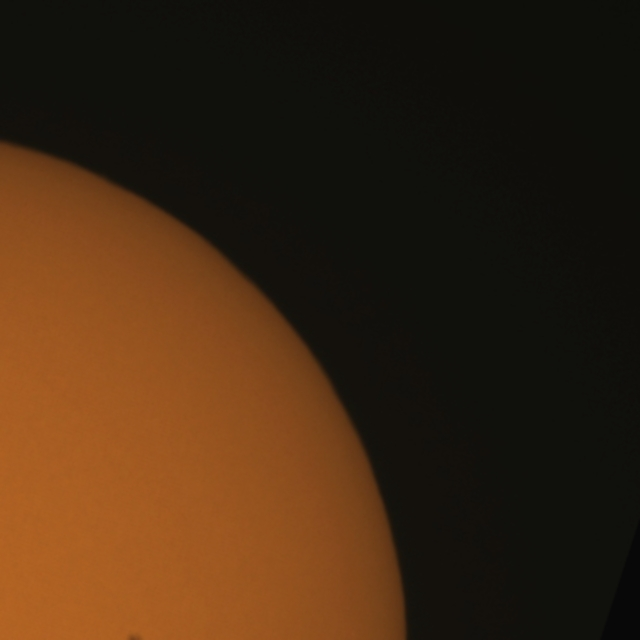sunspot: (122, 631, 146, 640)
